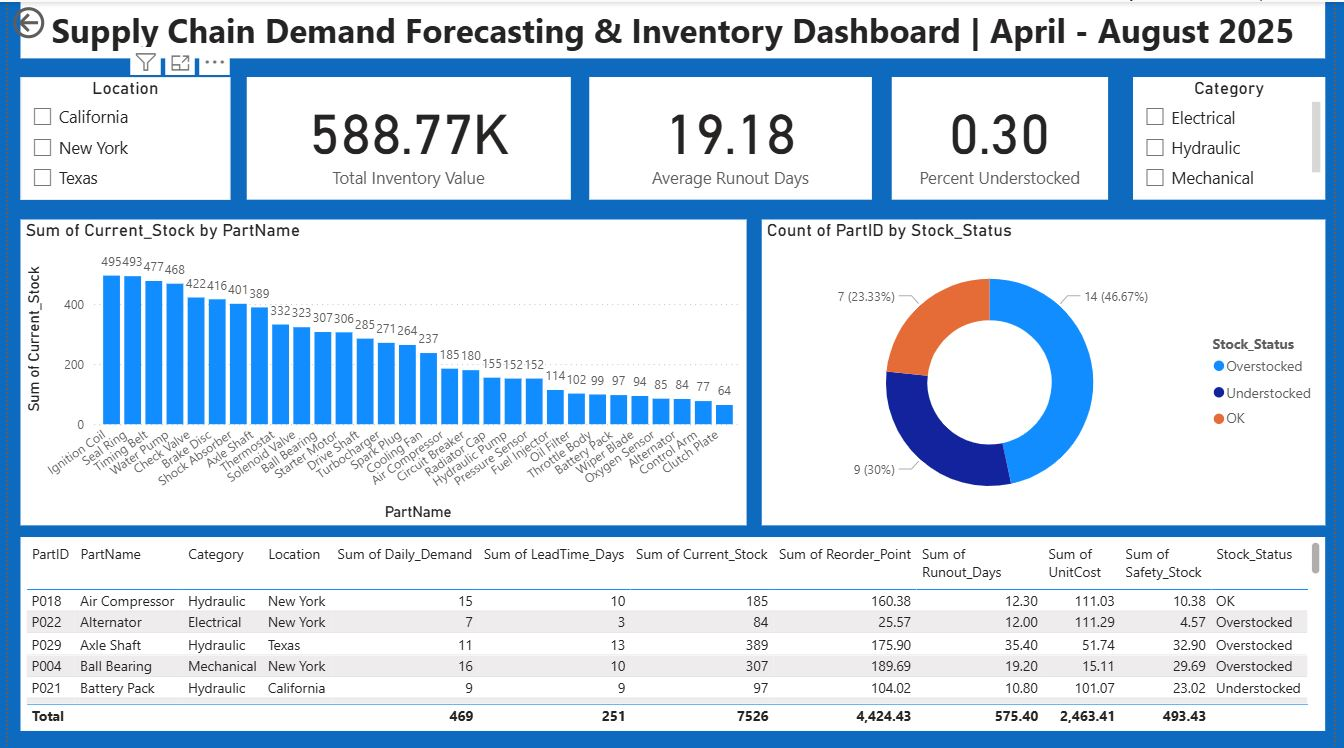

This screenshot's page, from the dashboard's own definition file:
{"tool":"powerbi","page":{"name":" Inventory Health Overview ","canvas":[1280,720],"ordinal":0},"visuals":[{"type":"card","fields":{"Values":["Inventory with Logic.Average Runout Days"]},"box":[561,72.4,272.7,118.2],"z":0},{"type":"card","fields":{"Values":["Inventory with Logic.Total Inventory Value"]},"box":[230.4,72.4,312.5,118.2],"z":1000},{"type":"card","fields":{"Values":["Inventory with Logic.Percent Understocked"]},"box":[853,72.4,208.7,118.2],"z":2000},{"type":"textbox","box":[12.1,0,1259.5,54.3],"z":3000},{"type":"columnChart","fields":{"Category":["Inventory with Logic.PartName"],"Y":["Sum(Inventory with Logic.Current_Stock)"]},"box":[12.1,209.9,700.9,295.6],"z":4000},{"type":"donutChart","fields":{"Category":["Inventory with Logic.Stock_Status"],"Y":["CountNonNull(Inventory with Logic.PartID)"]},"box":[727.5,209.9,544.1,295.6],"z":5000},{"type":"tableEx","fields":{"Values":["Inventory with Logic.PartID","Inventory with Logic.PartName","Inventory with Logic.Category","Inventory with Logic.Location","Sum(Inventory with Logic.Daily_Demand)","Sum(Inventory with Logic.LeadTime_Days)","Sum(Inventory with Logic.Current_Stock)","Sum(Inventory with Logic.Reorder_Point)","Sum(Inventory with Logic.Runout_Days)","Sum(Inventory with Logic.UnitCost)","Sum(Inventory with Logic.Safety_Stock)","Inventory with Logic.Stock_Status"]},"box":[12.1,516.4,1259.5,187],"z":6000},{"type":"actionButton","box":[0,0,100,40],"z":7000},{"type":"slicer","title":"Location","fields":{"Values":["Inventory with Logic.Location"]},"box":[12.1,72.4,202.7,118.2],"z":8000},{"type":"slicer","title":"Category","fields":{"Values":["Inventory with Logic.Category"]},"box":[1085.8,72.4,185.8,118.2],"z":9000}]}

Visuals, with their boxes in screenshot pixels (x1, y1, x2, y2):
card - Inventory with Logic.Average Runout Days: {"x1": 590, "y1": 74, "x2": 869, "y2": 196}
card - Inventory with Logic.Total Inventory Value: {"x1": 250, "y1": 74, "x2": 571, "y2": 196}
card - Inventory with Logic.Percent Understocked: {"x1": 889, "y1": 74, "x2": 1103, "y2": 196}
textbox: {"x1": 26, "y1": 0, "x2": 1319, "y2": 56}
columnChart - Inventory with Logic.PartName x Sum(Inventory with Logic.Current_Stock): {"x1": 26, "y1": 215, "x2": 745, "y2": 519}
donutChart - Inventory with Logic.Stock_Status x CountNonNull(Inventory with Logic.PartID): {"x1": 760, "y1": 215, "x2": 1319, "y2": 519}
tableEx - Inventory with Logic.PartID x Inventory with Logic.PartName: {"x1": 26, "y1": 530, "x2": 1319, "y2": 722}
actionButton: {"x1": 14, "y1": 0, "x2": 117, "y2": 41}
"Location" slicer: {"x1": 26, "y1": 74, "x2": 234, "y2": 196}
"Category" slicer: {"x1": 1128, "y1": 74, "x2": 1319, "y2": 196}
